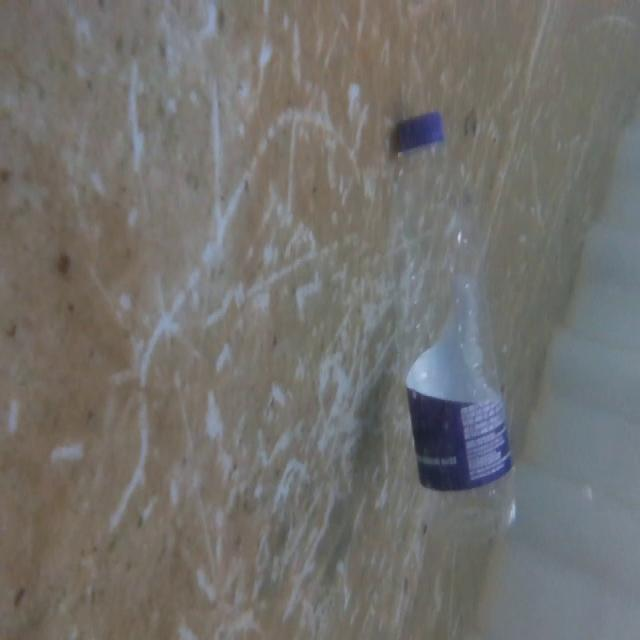plastic bottle: (369, 107, 521, 561)
